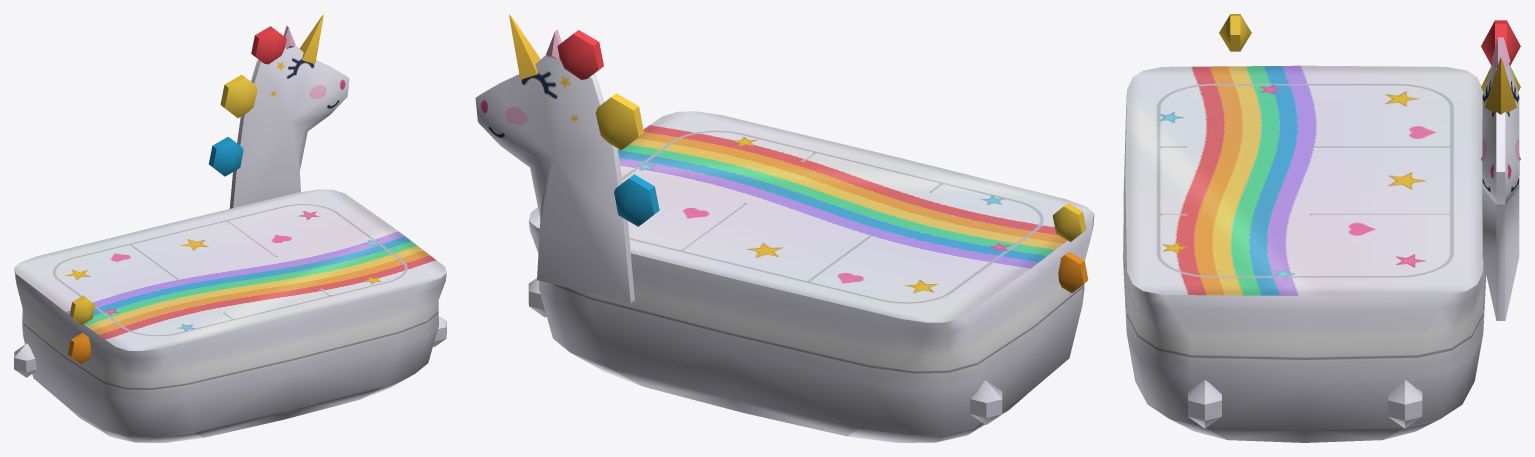
Rendered from pool_unicorn_float_lod1.glb.
3 renders of one model, left to right at view 1: azimuth 30°, elevation 25°; view 2: azimuth 150°, elevation 25°; view 3: azimuth 270°, elevation 25°, orthographic. The views are drawn at different scales.
Visible parts, largest first — view 1: pool_unicorn_float_LOD1; view 2: pool_unicorn_float_LOD1; view 3: pool_unicorn_float_LOD1.
Part boxes in pixels (x1=…): pool_unicorn_float_LOD1: x1=14, y1=14, x2=446, y2=442; pool_unicorn_float_LOD1: x1=475, y1=14, x2=1094, y2=442; pool_unicorn_float_LOD1: x1=1123, y1=14, x2=1520, y2=442.
Size of the model in its own units: 14 by 9.98 by 9.14.
Materials: 1 (1 with a texture image).
